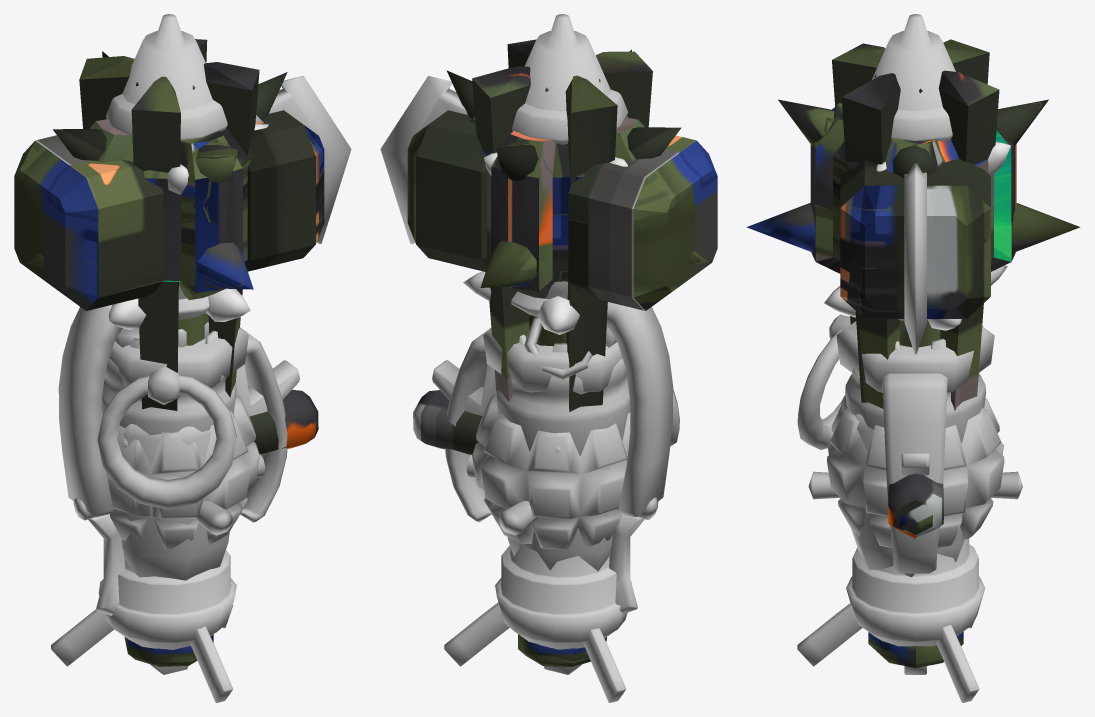
3 views of the same model, side by side, from view 1: azimuth 30°, elevation 25°; view 2: azimuth 150°, elevation 25°; view 3: azimuth 270°, elevation 25° (orthographic).
Visible parts, largest first — view 1: vk_t1_a4_lv6, vk_t1_a4_lv7, vk_t1_a4_lv11, vk_t1_a4_lv10, vk_t1_a4_lv8, vk_t1_a4_lv12, vk_t1_a4_lv1, vk_t1_a4_lv3, vk_t1_a4_lv5, vk_t1_a4_lv4, vk_t1_a4_lv9, vk_t1_a4_lv2; view 2: vk_t1_a4_lv6, vk_t1_a4_lv11, vk_t1_a4_lv7, vk_t1_a4_lv8, vk_t1_a4_lv10, vk_t1_a4_lv12, vk_t1_a4_lv3, vk_t1_a4_lv5, vk_t1_a4_lv4, vk_t1_a4_lv1, vk_t1_a4_lv9; view 3: vk_t1_a4_lv7, vk_t1_a4_lv6, vk_t1_a4_lv8, vk_t1_a4_lv10, vk_t1_a4_lv11, vk_t1_a4_lv12, vk_t1_a4_lv4, vk_t1_a4_lv5, vk_t1_a4_lv1, vk_t1_a4_lv3, vk_t1_a4_lv9, vk_t1_a4_lv2.
Boxes of the visible parts, x1,y1,x2,y2 form: vk_t1_a4_lv6: (14,110,324,310); vk_t1_a4_lv7: (97,327,287,549); vk_t1_a4_lv11: (58,305,236,649); vk_t1_a4_lv10: (25,51,287,300); vk_t1_a4_lv8: (79,39,259,410); vk_t1_a4_lv12: (51,14,299,702); vk_t1_a4_lv1: (120,322,234,580); vk_t1_a4_lv3: (88,124,268,615); vk_t1_a4_lv5: (149,76,351,674); vk_t1_a4_lv4: (124,389,318,666); vk_t1_a4_lv9: (73,454,265,535); vk_t1_a4_lv2: (178,313,208,345); vk_t1_a4_lv6: (407,110,717,310); vk_t1_a4_lv11: (495,302,673,649); vk_t1_a4_lv7: (445,328,679,549); vk_t1_a4_lv8: (472,39,652,411); vk_t1_a4_lv10: (446,49,708,298); vk_t1_a4_lv12: (432,14,627,702); vk_t1_a4_lv3: (463,152,644,614); vk_t1_a4_lv5: (380,76,582,674); vk_t1_a4_lv4: (413,390,606,667); vk_t1_a4_lv1: (507,428,623,571); vk_t1_a4_lv9: (466,314,658,535); vk_t1_a4_lv7: (797,314,1004,573); vk_t1_a4_lv6: (840,158,990,318); vk_t1_a4_lv8: (832,39,999,410); vk_t1_a4_lv10: (746,99,1080,273); vk_t1_a4_lv11: (845,325,986,646); vk_t1_a4_lv12: (797,14,979,702); vk_t1_a4_lv4: (868,473,963,667); vk_t1_a4_lv5: (904,163,926,674); vk_t1_a4_lv1: (841,395,966,577); vk_t1_a4_lv3: (824,142,1010,330); vk_t1_a4_lv9: (808,471,1022,499); vk_t1_a4_lv2: (900,320,940,347).
Size of the model in its own units: 1.05 by 2.01 by 0.9331.
